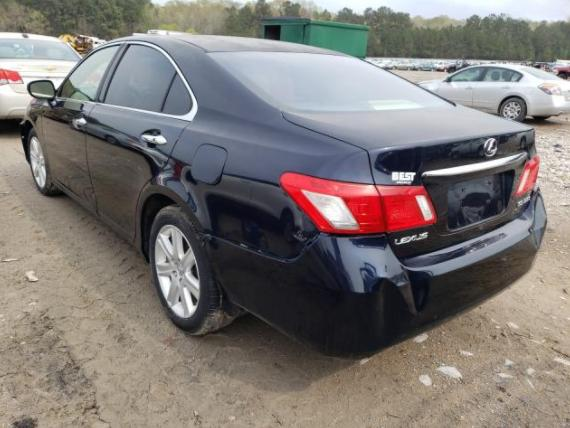Back-bumper: (202, 189, 550, 359)
Back-door: (86, 40, 199, 235)
Back-wheel: (148, 204, 244, 334)
Back-window: (105, 45, 174, 110), (162, 74, 192, 115)
Back-windshield: (207, 51, 453, 114)
Fender: (22, 98, 49, 144)
Front-bumper: (20, 122, 28, 160)
Front-door: (42, 42, 124, 207)
Front-wheel: (27, 128, 61, 196)
Front-window: (53, 44, 123, 99)
Mirror: (27, 79, 57, 100)
Quarter-panel: (135, 106, 375, 259)
Rocker-panel: (52, 175, 135, 248)
Roof: (155, 34, 342, 54)
Tail-light: (280, 171, 387, 235), (377, 185, 435, 233), (516, 154, 541, 198)
Trunk: (283, 104, 537, 263)
